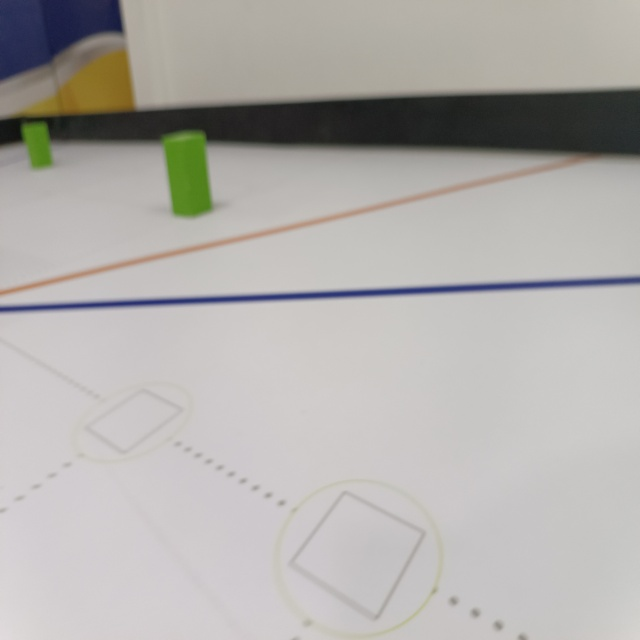blue line: (0, 274, 639, 318)
green rectangular prism: (158, 130, 216, 224), (20, 125, 55, 172)
orange line: (4, 153, 596, 297)
